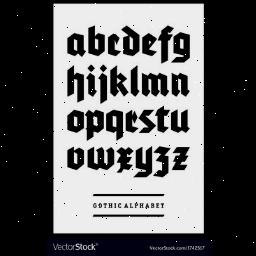a: (124, 203, 128, 209)
b: (150, 202, 156, 210)
c: (117, 202, 121, 208)
e: (156, 203, 160, 209)
g: (91, 201, 97, 209)
h: (108, 202, 112, 210)
i: (114, 202, 116, 210)
l: (128, 202, 134, 208)
o: (97, 202, 101, 210)
p: (135, 202, 139, 208)
t: (102, 202, 108, 208)
